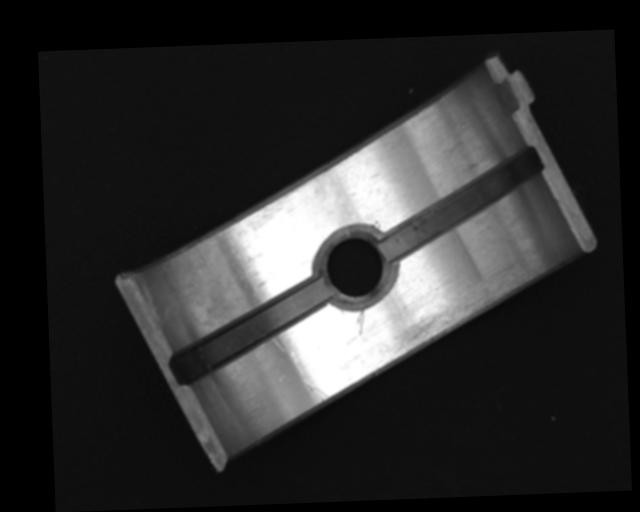gap: (378, 147, 547, 261), (169, 280, 330, 382)
hole: (315, 226, 394, 307)
nick: (290, 348, 328, 402), (356, 311, 366, 335)
scratch: (393, 262, 540, 356)
